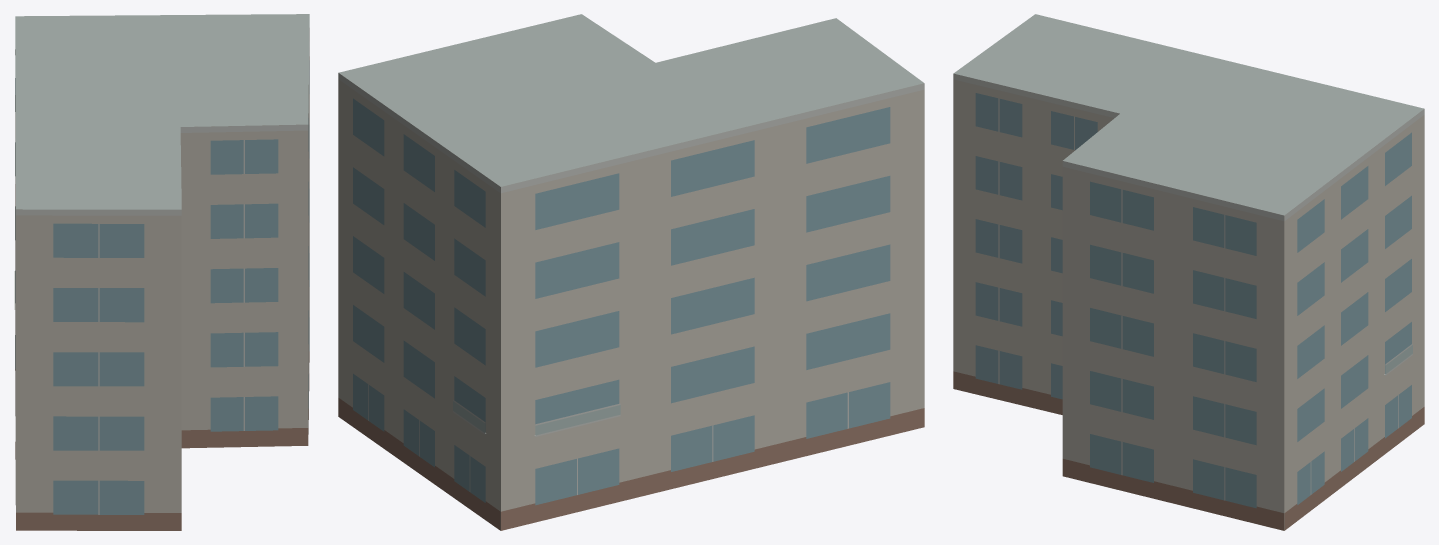
Rendered from survey-upis-32876805.glb.
The picture shows the model from 3 angles, left to right: view 1: azimuth 30°, elevation 25°; view 2: azimuth 150°, elevation 25°; view 3: azimuth 270°, elevation 25°; orthographic projection. The views are drawn at different scales.
Visible parts, largest first — view 1: survey-upis-32876805.tmp; view 2: survey-upis-32876805.tmp; view 3: survey-upis-32876805.tmp.
Part boxes in pixels (x1,y1,x2,y2): survey-upis-32876805.tmp: (14, 14, 309, 530); survey-upis-32876805.tmp: (338, 14, 924, 530); survey-upis-32876805.tmp: (953, 14, 1424, 530).
Bounding box in the file's own units: 17.96 × 13.1 × 17.75.
